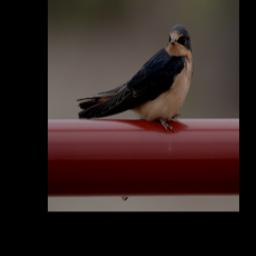Swallow: (76, 20, 194, 138)
